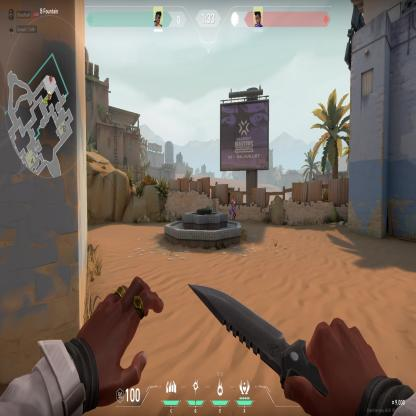enemy: (230, 195, 236, 221)
